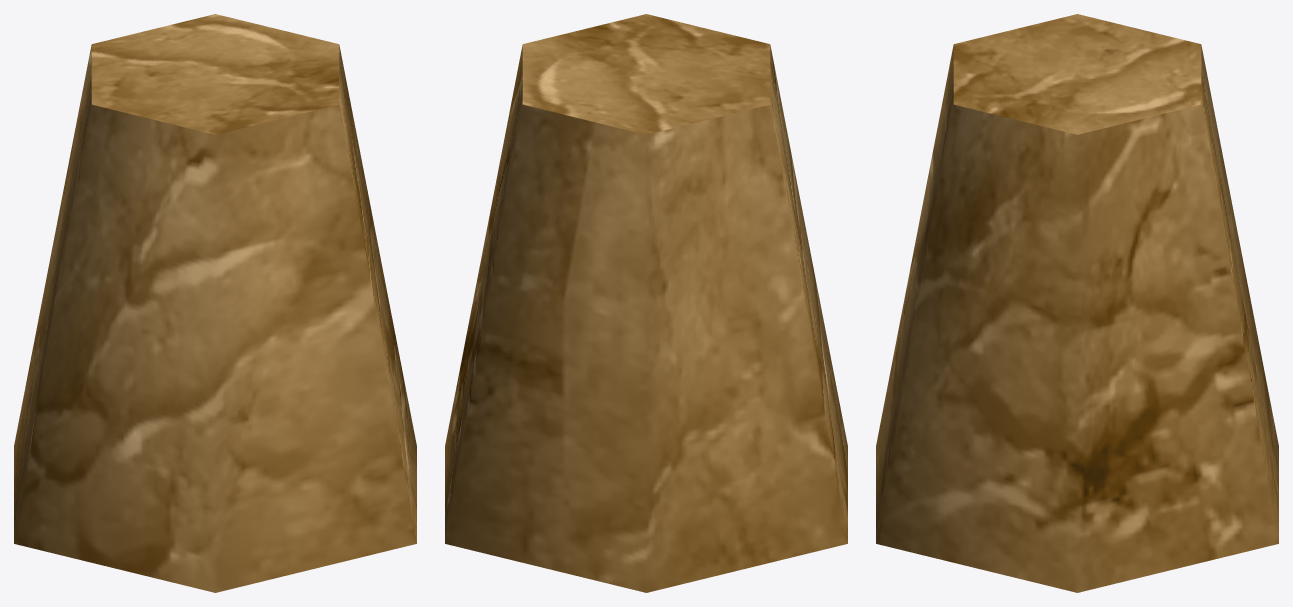
Rendered from QSMY_MJ_Shan04.FBX.
3 renders of one model, left to right at view 1: azimuth 30°, elevation 25°; view 2: azimuth 150°, elevation 25°; view 3: azimuth 270°, elevation 25°, orthographic.
Parts seen in each view (by area): view 1: Cylinder03; view 2: Cylinder03; view 3: Cylinder03.
Part boxes in pixels (x1,y1,x2,y2): Cylinder03: (14, 14, 416, 592); Cylinder03: (445, 14, 847, 592); Cylinder03: (876, 14, 1278, 592).
Bounding box in the file's own units: 14.63 × 14.59 × 12.67.
